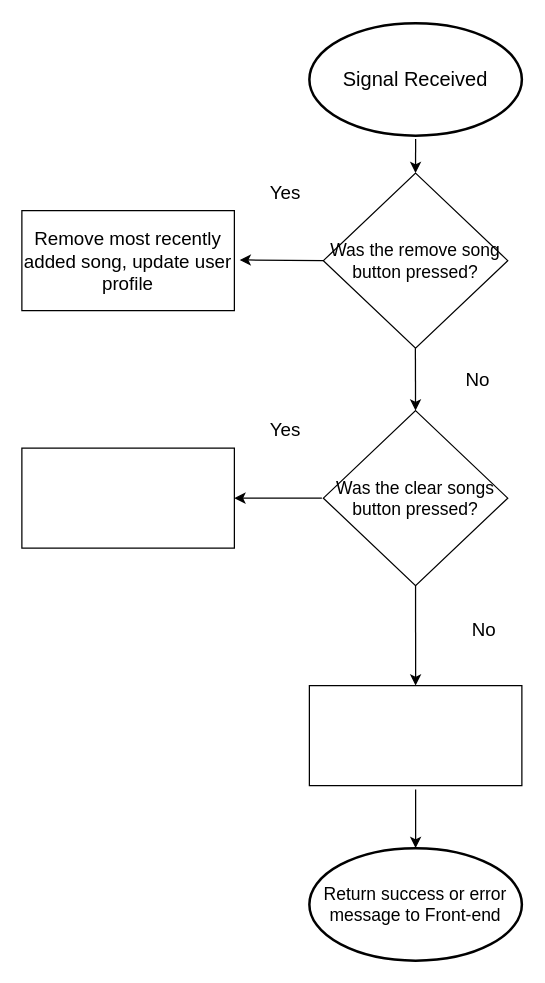
This 545x983 diagram has some shape labels left out. The shapes that lost their labels are listed below. From the top down, each one's centre as x and y in pixels, then its label:
At (127,497): "Clear all added songs and reset data".
At (415,735): "Process data of newly added song".
